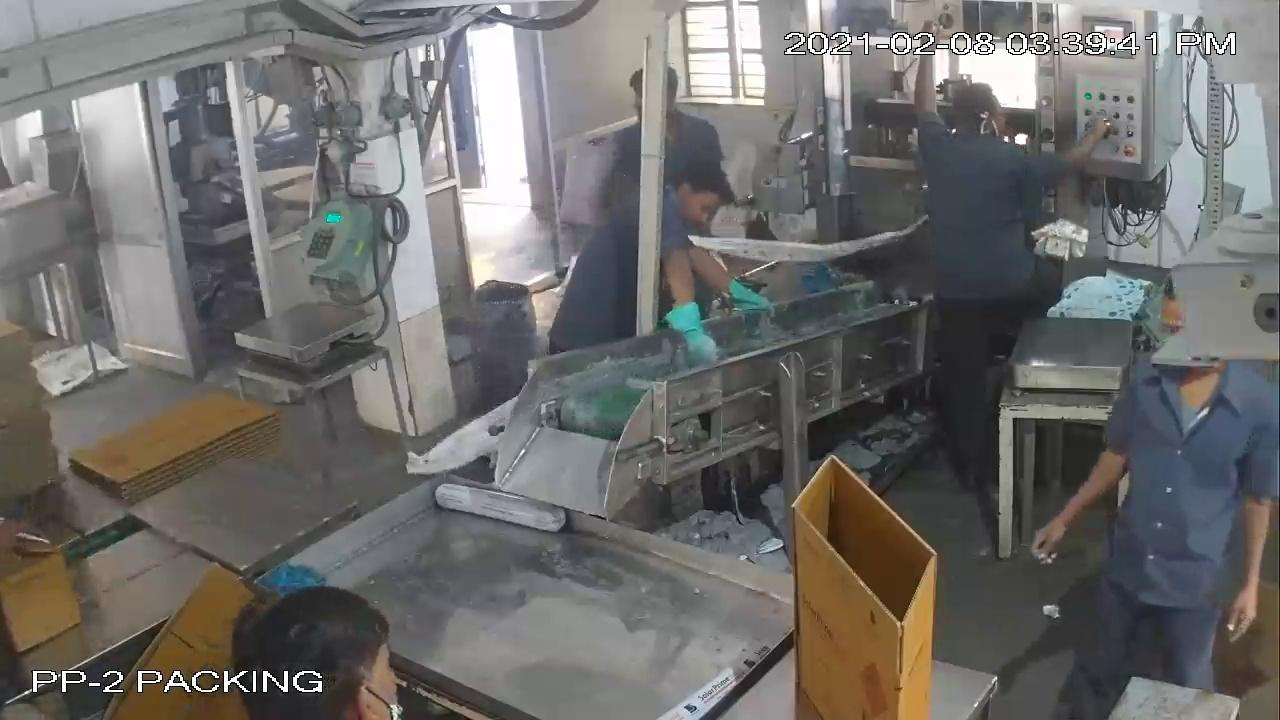Gloves: (647, 279, 722, 373)
No-gloves: (999, 426, 1125, 571), (1223, 479, 1280, 647)
